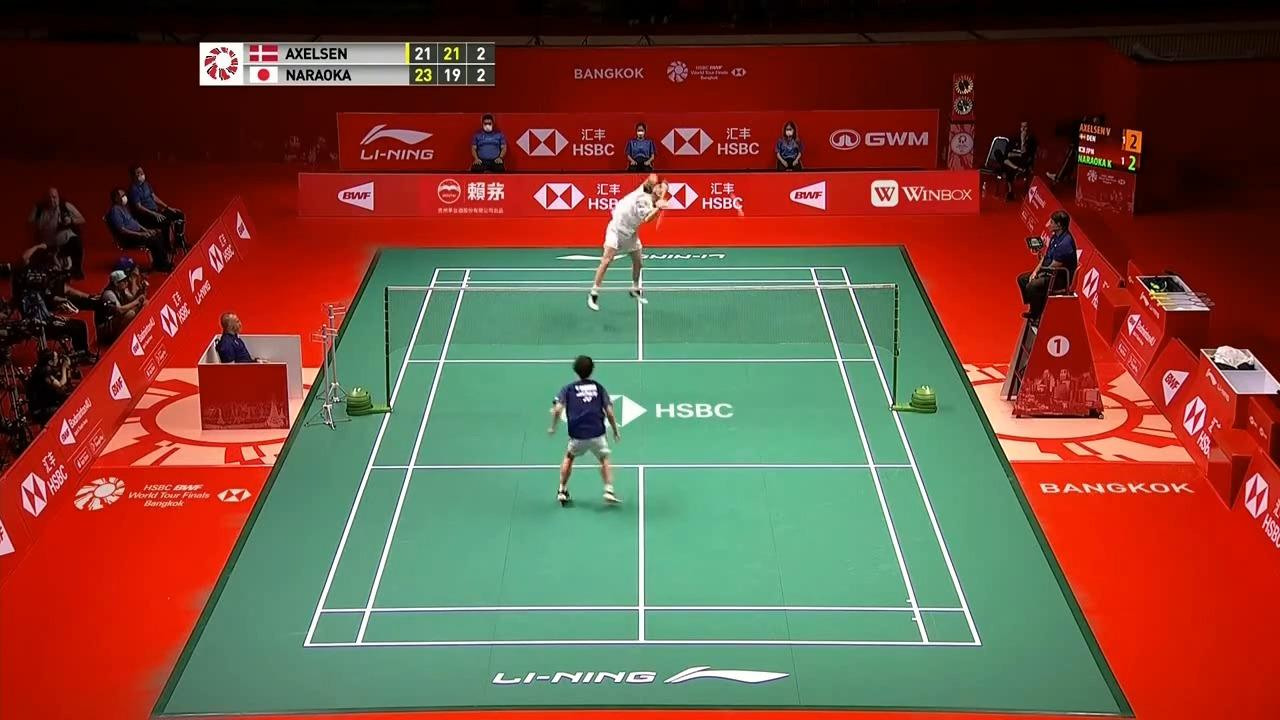shuttle: (731, 200, 743, 216)
